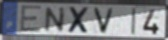4: (142, 9, 160, 36)
E: (19, 4, 43, 34)
I: (130, 7, 138, 36)
N: (44, 7, 68, 33)
V: (91, 6, 116, 35)
X: (67, 6, 92, 35)
